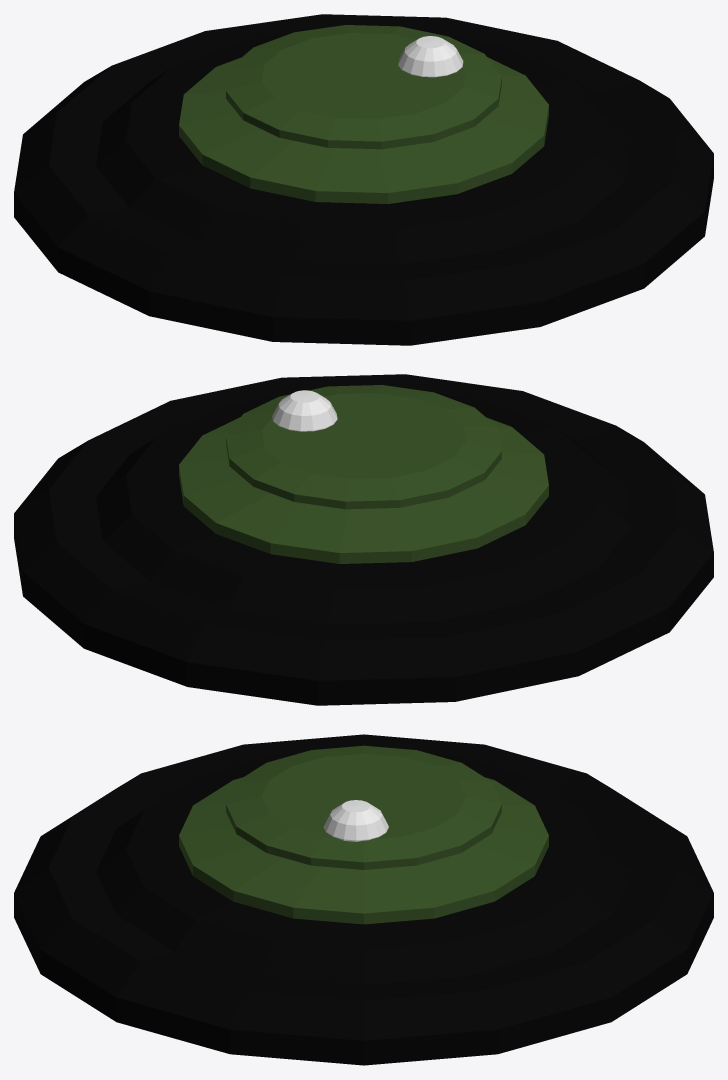
The model's file is Land mine.fbx.
3 views of the same model, one above another, from view 1: azimuth 30°, elevation 25°; view 2: azimuth 150°, elevation 25°; view 3: azimuth 270°, elevation 25° (orthographic).
Visible parts, largest first — view 1: Cylinder.016, Cylinder.001; view 2: Cylinder.016, Cylinder.001; view 3: Cylinder.016, Cylinder.001.
Part boxes in pixels (bbox=[...]): Cylinder.016: bbox=[14, 14, 713, 345]; Cylinder.001: bbox=[398, 36, 463, 77]; Cylinder.016: bbox=[14, 374, 713, 705]; Cylinder.001: bbox=[272, 390, 337, 431]; Cylinder.016: bbox=[14, 734, 713, 1065]; Cylinder.001: bbox=[323, 800, 388, 841].
Bounding box in the file's own units: 200 × 44.9 × 200.
